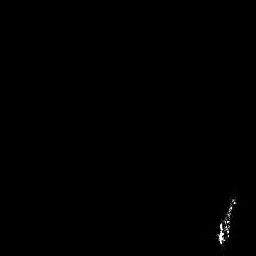ship: (214, 192, 239, 248)
